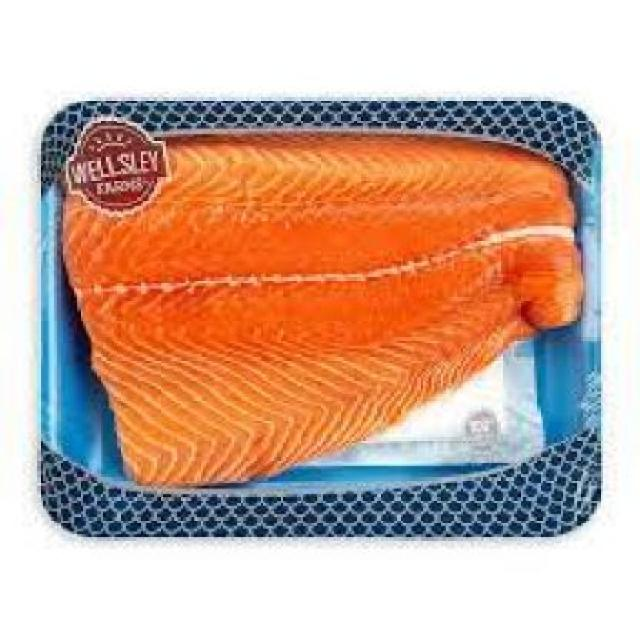salmon: (49, 120, 589, 480)
